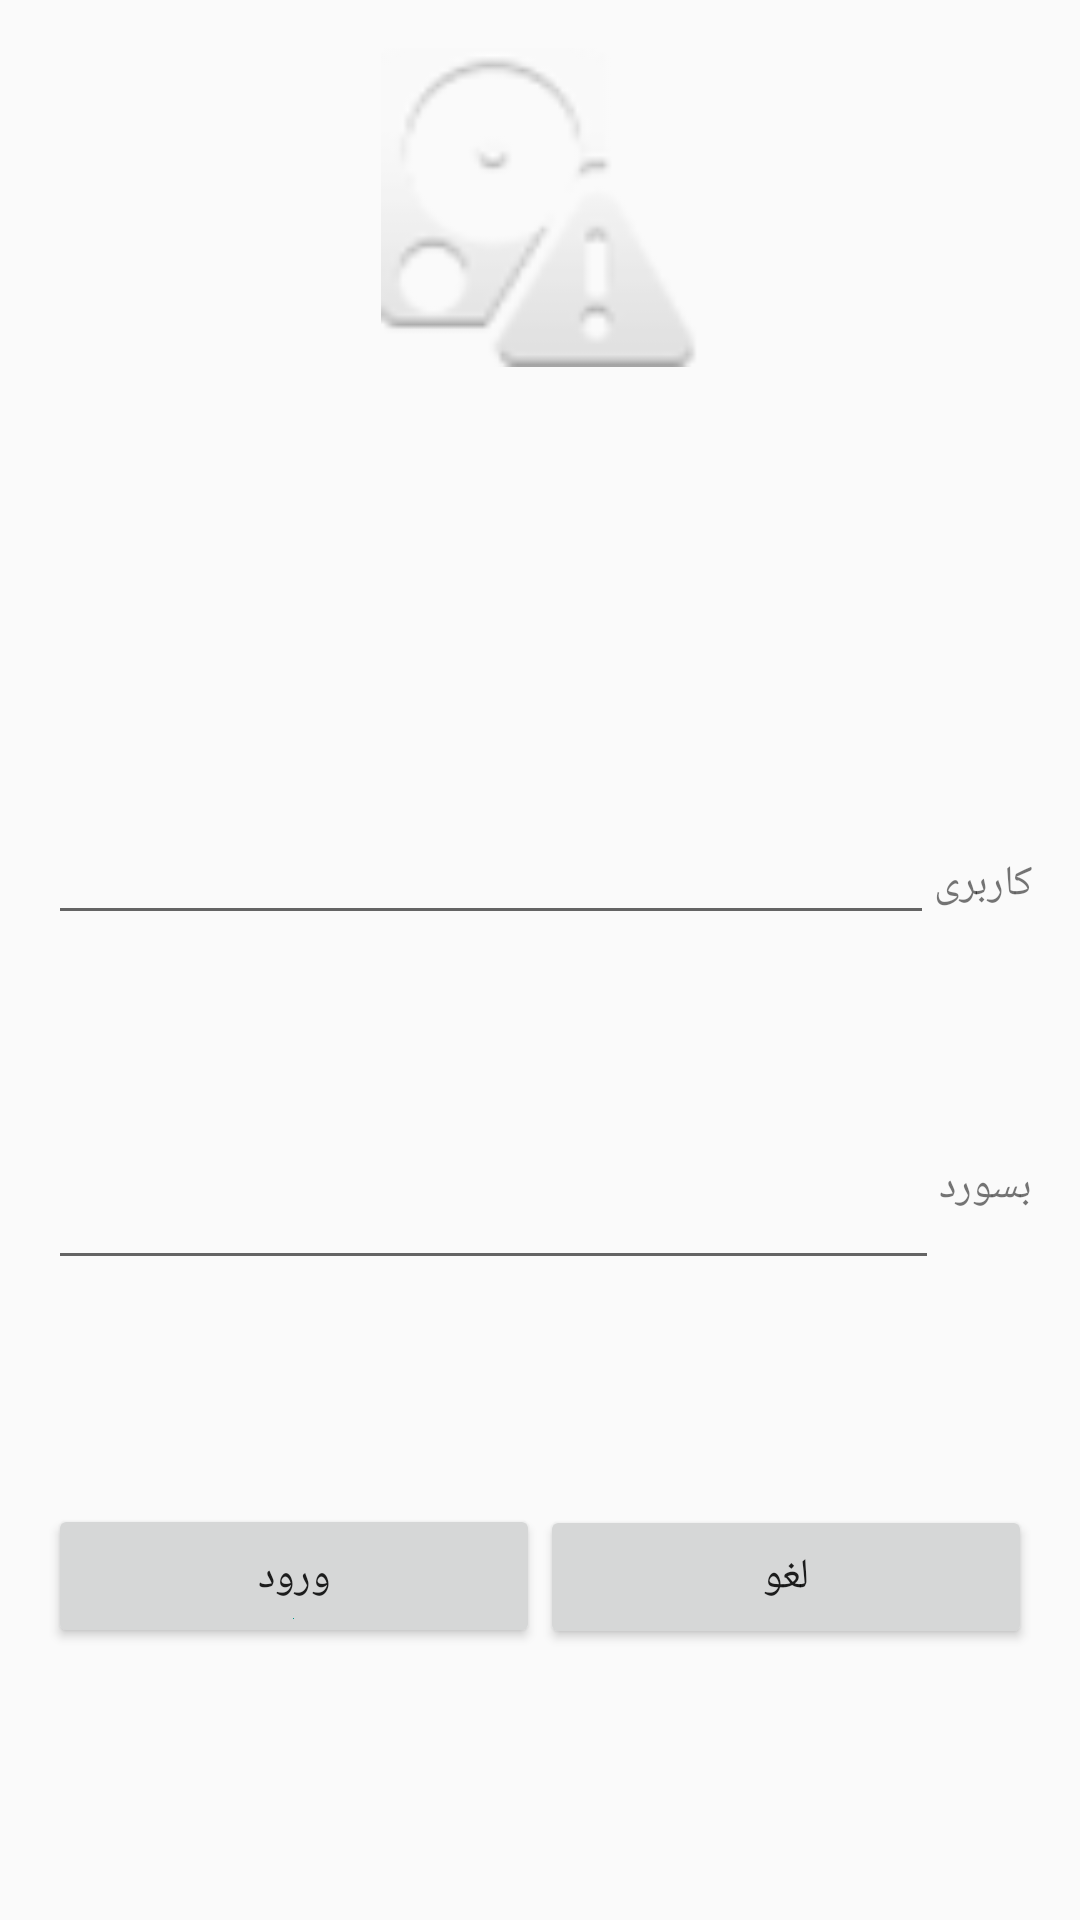

Icons on this 1080×1920 Android screen, each with the point to tap as (x,y):
popup disk full: (537,214)
